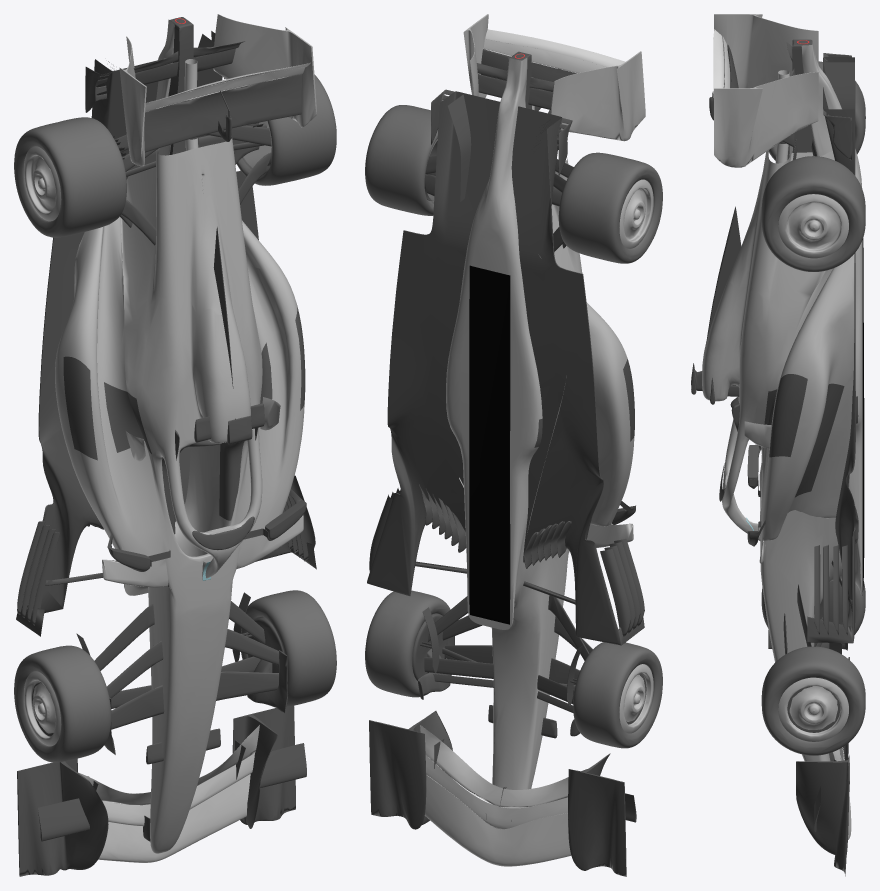
3 views of the same model, side by side, from view 1: azimuth 30°, elevation 25°; view 2: azimuth 150°, elevation 25°; view 3: azimuth 270°, elevation 25° (orthographic). The views are drawn at different scales.
Visible parts, largest first — view 1: FRONT NOSE; view 2: FRONT NOSE; view 3: FRONT NOSE.
Boxes of the visible parts, bbox=[...] form: FRONT NOSE: bbox=[14, 14, 336, 876]; FRONT NOSE: bbox=[365, 14, 662, 876]; FRONT NOSE: bbox=[691, 14, 865, 876].
Size of the model in its own units: 1.65 by 4.79 by 0.9581.
2 materials, 2 textured.
